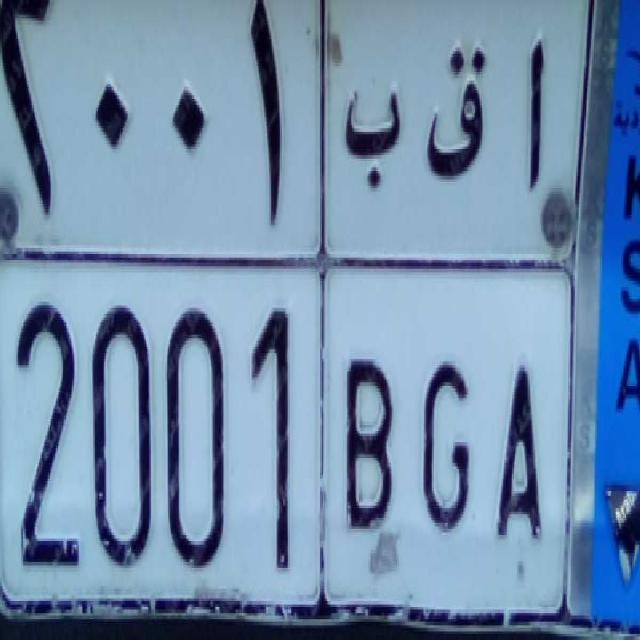license_plate: (3, 230, 561, 615)
